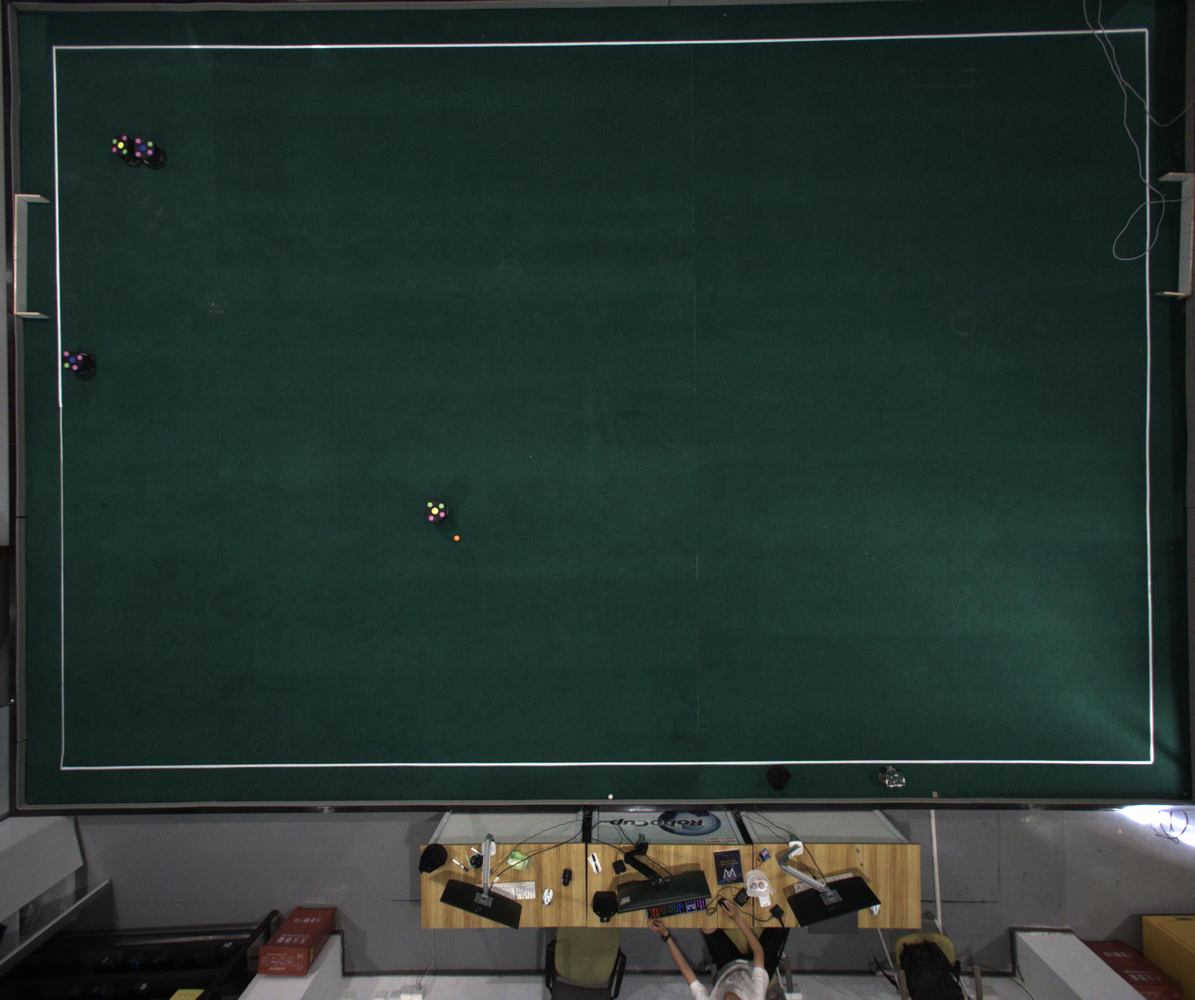ball: (454, 535, 460, 541)
blue_bot: (61, 350, 83, 373), (134, 136, 155, 160)
yellow_bot: (425, 499, 447, 524), (111, 135, 130, 157)
